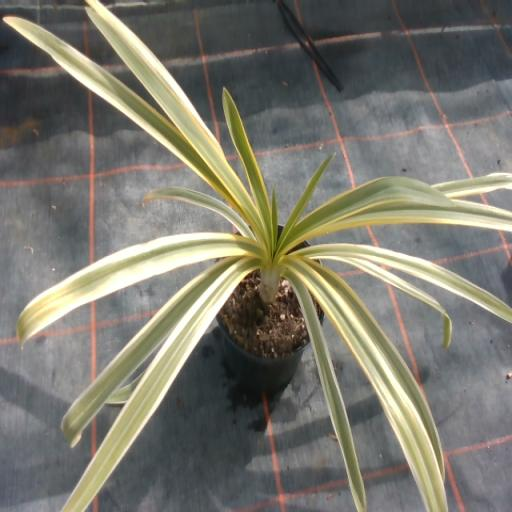Agapanthus-praecox: (62, 258, 256, 511), (87, 0, 262, 233), (289, 263, 446, 511), (4, 18, 227, 192), (61, 263, 226, 445), (310, 261, 444, 481), (16, 233, 265, 345), (286, 272, 366, 511), (299, 243, 511, 322), (280, 178, 450, 250), (223, 91, 276, 249), (334, 199, 511, 230), (143, 187, 251, 237), (279, 155, 333, 247), (432, 173, 511, 196), (271, 191, 277, 249)
